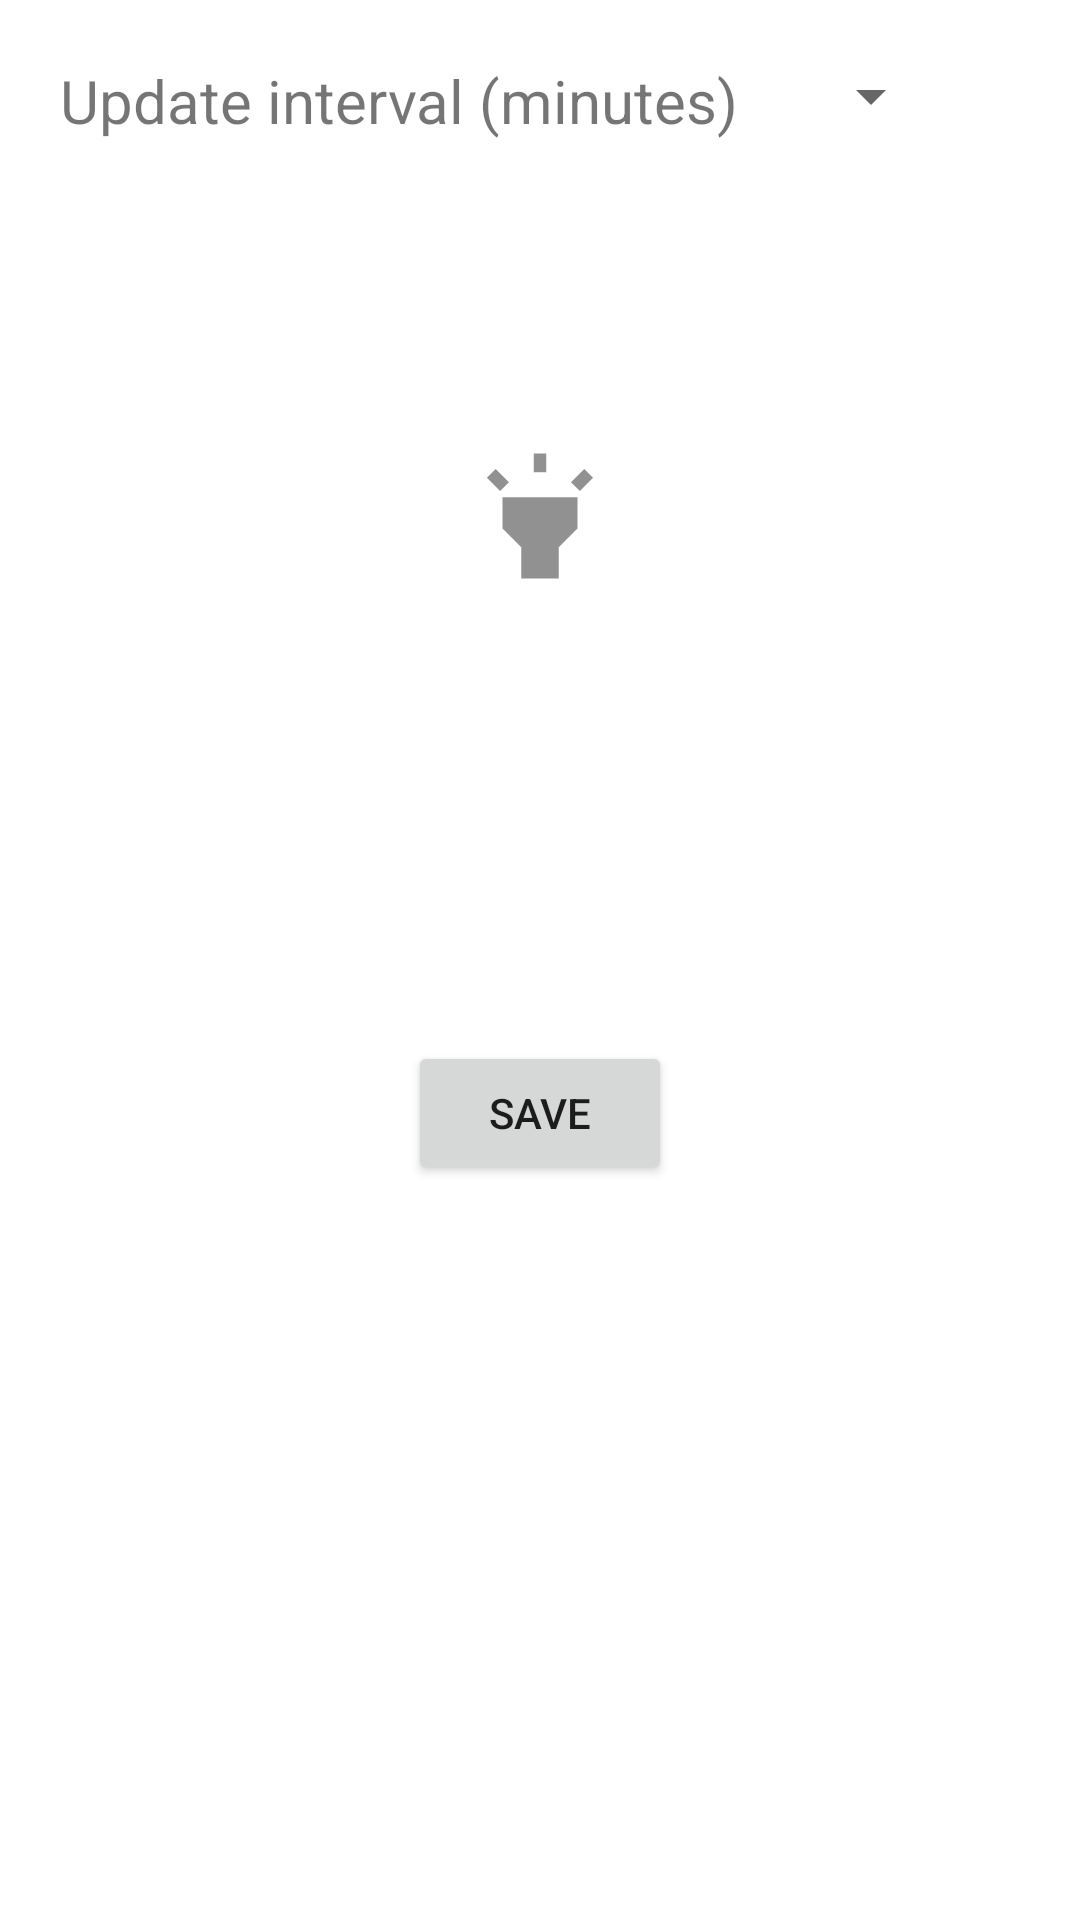

Screen size 1080 × 1920. Icon name, then its box in pixels as rect(x1, y1, x2, y2):
highlight: rect(487, 453, 593, 579)
